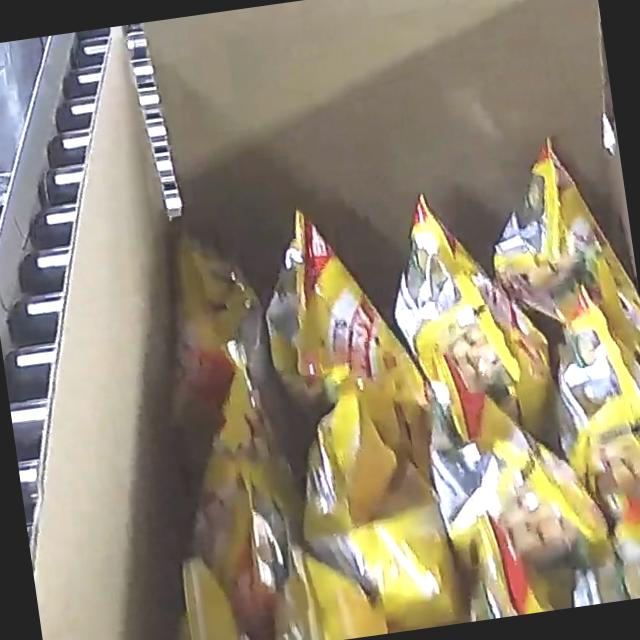salted: (126, 126, 640, 640)
